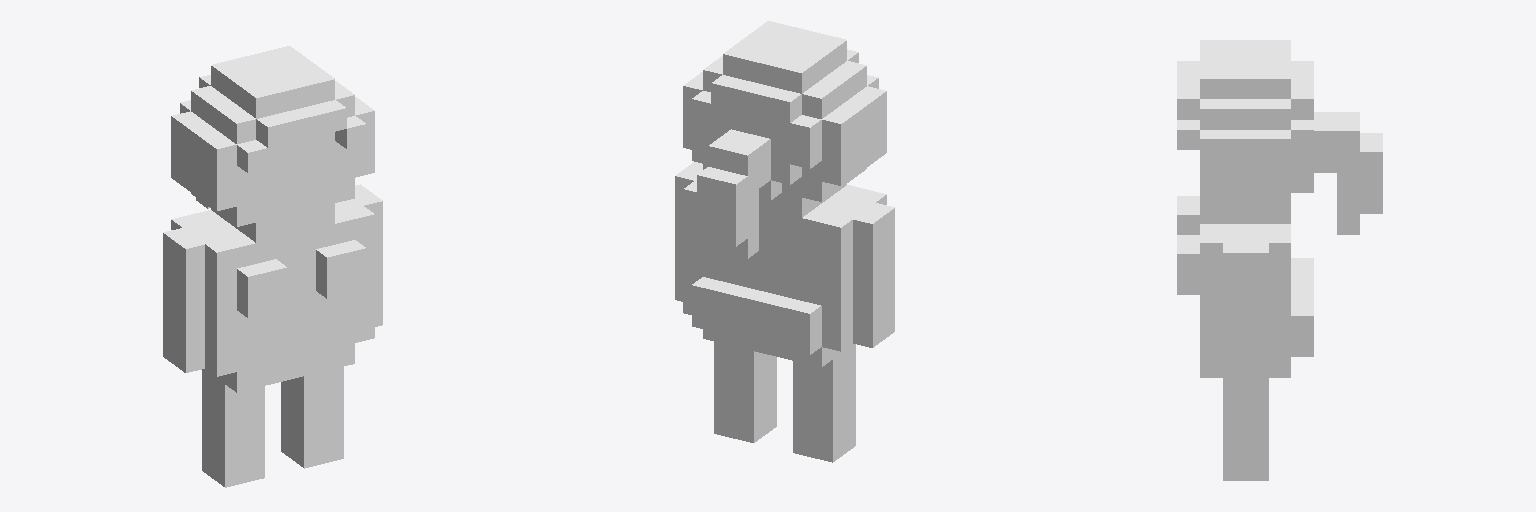
File: chr_nanny.obj
3 views of the same model, side by side, from view 1: azimuth 30°, elevation 25°; view 2: azimuth 150°, elevation 25°; view 3: azimuth 270°, elevation 25° (orthographic).
Visible parts, largest first — view 1: chr_nanny; view 2: chr_nanny; view 3: chr_nanny.
Part boxes in pixels (x1,y1,x2,y2): chr_nanny: (163, 46, 382, 487); chr_nanny: (675, 21, 894, 462); chr_nanny: (1177, 40, 1382, 480).
Bounding box in the file's own units: 10 × 19 × 9.